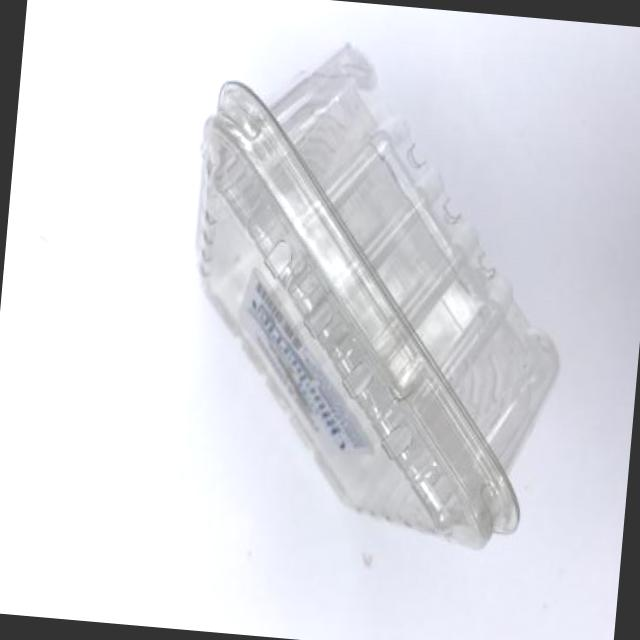Trash: (168, 22, 588, 554)
